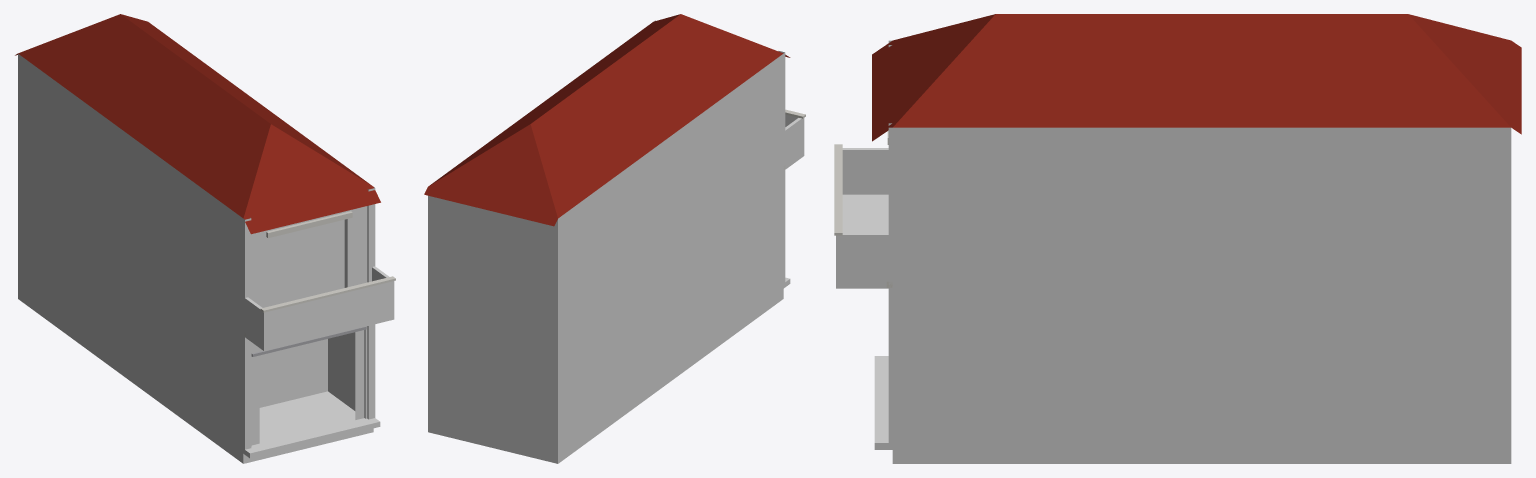
3 renders of one model, left to right at view 1: azimuth 30°, elevation 25°; view 2: azimuth 150°, elevation 25°; view 3: azimuth 270°, elevation 25°, orthographic. The views are drawn at different scales.
Parts seen in each view (by area): view 1: TH_D12_C_02_LOD0; view 2: TH_D12_C_02_LOD0; view 3: TH_D12_C_02_LOD0.
Boxes of the visible parts, x1,y1,x2,y2 form: TH_D12_C_02_LOD0: [15, 14, 395, 463]; TH_D12_C_02_LOD0: [424, 14, 805, 463]; TH_D12_C_02_LOD0: [834, 14, 1521, 463].
Size of what is drawn, in the model's own units: 4.06 by 8.7 by 13.33.
